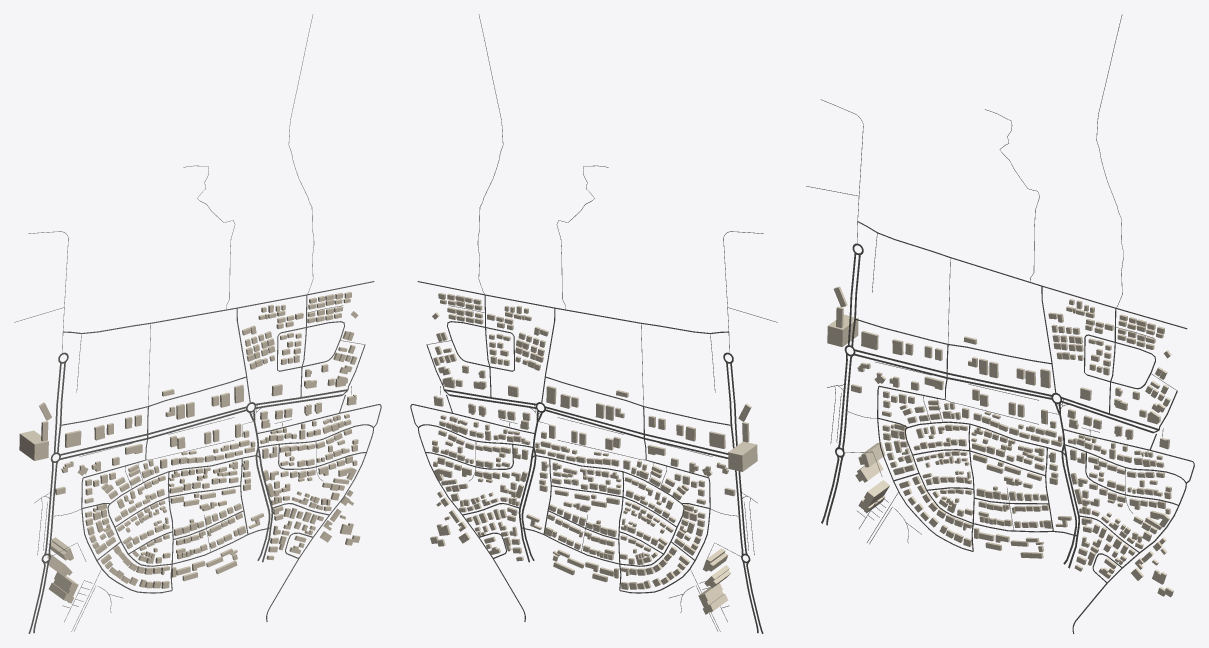
The model's file is historic-palestine-07_30_3488_3244.glb.
3 renders of one model, left to right at view 1: azimuth 30°, elevation 25°; view 2: azimuth 150°, elevation 25°; view 3: azimuth 330°, elevation 25°, orthographic. The views are drawn at different scales.
Parts seen in each view (by area): view 1: Building_, Building_.419; view 2: Building_, Building_.419; view 3: Building_.
Boxes of the visible parts, x1,y1,x2,y2 form: Building_: (19, 430, 48, 460); Building_.419: (49, 572, 78, 603); Building_: (728, 441, 757, 471); Building_.419: (698, 583, 727, 614); Building_: (827, 314, 858, 347).
Bounding box in the file's own units: 1093 × 1697 × 78.7.
